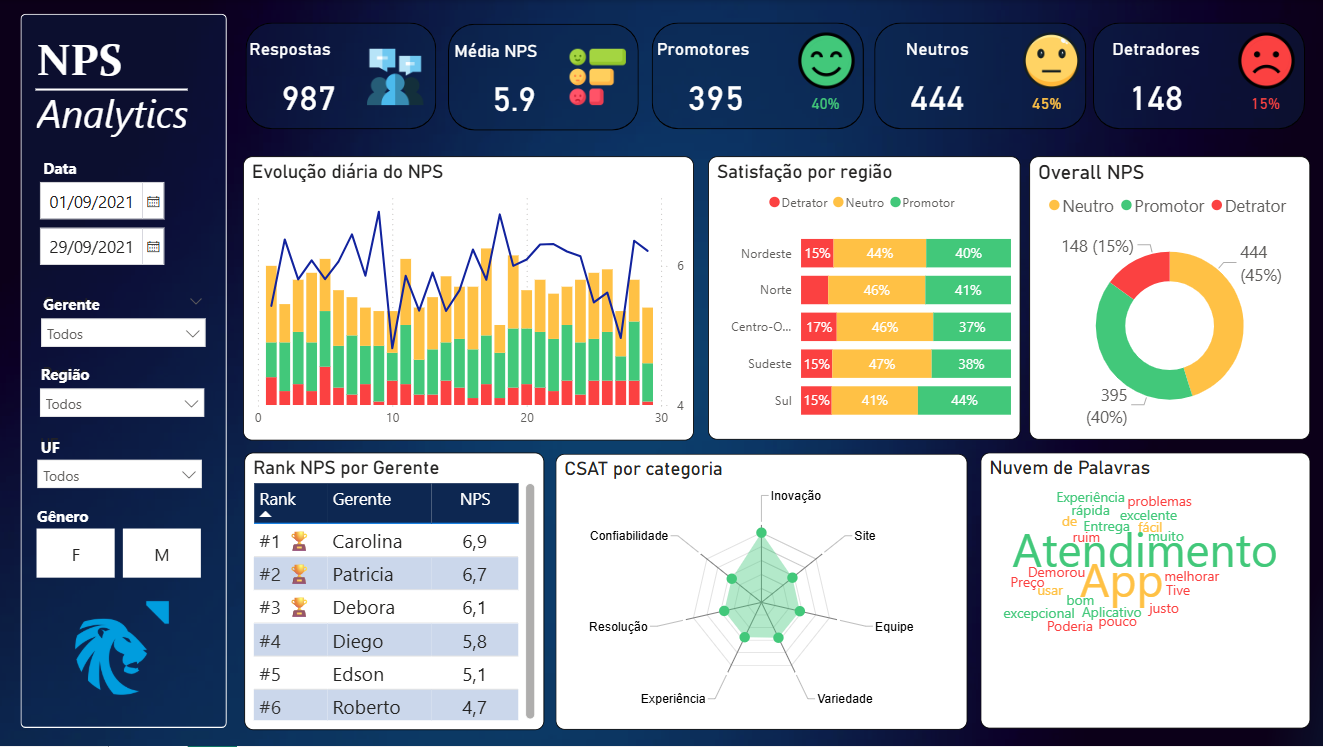

The page's visual inventory and layout, read from the dashboard file:
{"tool":"powerbi","page":{"name":"NPS","canvas":[1280,720],"ordinal":0},"visuals":[{"type":"shape","box":[1056.4,22.3,204.7,103],"z":0},{"type":"shape","box":[21.2,13.7,199.1,689.3],"z":1000},{"type":"image","box":[20.6,547.5,199,155.1],"z":2000},{"type":"WordCloud1447959067750","title":"Nuvem de Palavras","fields":{"Category":["NPS.Comentario"]},"box":[947.8,436.5,318.1,266.6],"z":3000},{"type":"donutChart","title":"Overall NPS","fields":{"Category":["NPS.Classificacao_NPS"],"Y":["MedidasNPS.Qtd. Respostas"]},"box":[995.3,150.8,271.4,273.9],"z":4000},{"type":"hundredPercentStackedBarChart","title":"Satisfação por região","fields":{"Category":["NPS.Regiao"],"Y":["MedidasNPS.Qtd. Respostas"],"Series":["NPS.Classificacao_NPS"]},"box":[685.3,150.8,301.6,273.9],"z":5000},{"type":"advancedSlicerVisual","fields":{"Values":["NPS.Genero"]},"box":[32.2,506.1,170,57.9],"z":6000},{"type":"textbox","box":[32.2,482.9,70.8,38.6],"z":7000},{"type":"RadarChart1446119667547","title":"CSAT por categoria","fields":{"Category":["Dim_Categoria1.Categoria"],"Y":["MedidasNPS.CSAT_Radar"]},"box":[538.3,437.8,397.9,266.6],"z":8000},{"type":"advanceCardE03760C5AB684758B56AA29F9E6C257B","title":"Detradores","fields":{"mainMeasure":["MedidasNPS.Qtd_Detratores"]},"box":[1055.9,37.6,124.4,97],"z":9000},{"type":"advanceCardE03760C5AB684758B56AA29F9E6C257B","fields":{"mainMeasure":["MedidasNPS.%_Detradores"]},"box":[1174.9,76.4,96.6,48.9],"z":10000},{"type":"image","box":[1173.6,31.3,100.4,54.1],"z":11000},{"type":"shape","box":[631.4,22.3,204.7,103],"z":12000},{"type":"advanceCardE03760C5AB684758B56AA29F9E6C257B","title":"Promotores","fields":{"mainMeasure":["MedidasNPS.Qtd_Promotores"]},"box":[631,37.6,124.4,97],"z":13000},{"type":"advanceCardE03760C5AB684758B56AA29F9E6C257B","fields":{"mainMeasure":["MedidasNPS.%_Promotores"]},"box":[749.9,76.4,96.6,48.9],"z":14000},{"type":"image","box":[748.6,31.3,100.4,54.1],"z":15000},{"type":"shape","box":[845.2,22.3,204.7,103],"z":16000},{"type":"advanceCardE03760C5AB684758B56AA29F9E6C257B","title":"Neutros","fields":{"mainMeasure":["MedidasNPS.Qtd_Neutros"]},"box":[844.7,37.6,124.4,97],"z":17000},{"type":"advanceCardE03760C5AB684758B56AA29F9E6C257B","fields":{"mainMeasure":["MedidasNPS.%_Neutros"]},"box":[963.7,76.4,96.6,48.9],"z":18000},{"type":"image","box":[966.5,31.6,100.4,54.1],"z":19000},{"type":"tableEx","title":"Rank NPS por Gerente","fields":{"Values":["MedidasNPS.Rank_Visual","NPS.Gerente","MedidasNPS.Média NPS"]},"box":[238.2,436.5,289.7,267.8],"z":20000},{"type":"lineStackedColumnComboChart","title":"Evolução diária do NPS","fields":{"Category":["NPS.Data_Resposta.Variation.Hierarquia de datas.Dia"],"Y2":["MedidasNPS.Média NPS"],"Y":["MedidasNPS.Qtd_Detratores","MedidasNPS.Qtd_Promotores","MedidasNPS.Qtd_Neutros"]},"box":[236.9,150.7,435.3,274.3],"z":21000},{"type":"shape","box":[238.5,21.9,184.1,103],"z":22000},{"type":"advanceCardE03760C5AB684758B56AA29F9E6C257B","title":"Respostas","fields":{"mainMeasure":["MedidasNPS.Qtd. Respostas"]},"box":[237.6,37.8,124.4,97],"z":23000},{"type":"image","box":[332.5,46.6,100.4,54.1],"z":24000},{"type":"shape","box":[434.6,22.6,184.1,103],"z":25000},{"type":"advanceCardE03760C5AB684758B56AA29F9E6C257B","title":"Média NPS","fields":{"mainMeasure":["MedidasNPS.Média NPS"]},"box":[435.5,38.9,124.9,96.6],"z":26000},{"type":"image","box":[528.6,47.3,100.4,54.1],"z":27000},{"type":"textbox","box":[32.2,27,188,135.2],"z":27001},{"type":"shape","box":[36.1,27,146.8,119.8],"z":27002},{"type":"slicer","title":"UF","fields":{"Values":["NPS.UF"]},"box":[28.3,414.6,179,68.2],"z":27003},{"type":"textbox","box":[36.1,415.9,70.8,38.6],"z":27004},{"type":"slicer","fields":{"Values":["NPS.Data_Resposta"]},"box":[28.3,164.8,179,97.9],"z":27005},{"type":"textbox","box":[38.6,146.8,70.8,38.6],"z":27006},{"type":"slicer","title":"UF","fields":{"Values":["NPS.Regiao"]},"box":[29.6,346.4,179,68.2],"z":27007},{"type":"textbox","box":[36.1,346.4,70.8,38.6],"z":27008},{"type":"slicer","title":"UF","fields":{"Values":["NPS.Gerente"]},"box":[30.9,278.1,179,68.2],"z":27009},{"type":"textbox","box":[38.6,278.1,70.8,38.6],"z":27010}]}

Visuals, with their boxes in screenshot pixels (x1, y1, x2, y2), scaled from the page's 1280x720 canvas onto the 1323x747 screenshot:
shape: 1092, 23, 1303, 130
shape: 22, 14, 228, 729
image: 21, 568, 227, 729
"Nuvem de Palavras" WordCloud1447959067750: 980, 453, 1308, 729
"Overall NPS" donutChart: 1029, 156, 1309, 441
"Satisfação por região" hundredPercentStackedBarChart: 708, 156, 1020, 441
advancedSlicerVisual - NPS.Genero: 33, 525, 209, 585
textbox: 33, 501, 106, 541
"CSAT por categoria" RadarChart1446119667547: 556, 454, 968, 731
"Detradores" advanceCardE03760C5AB684758B56AA29F9E6C257B: 1091, 39, 1220, 140
advanceCardE03760C5AB684758B56AA29F9E6C257B - MedidasNPS.%_Detradores: 1214, 79, 1314, 130
image: 1213, 32, 1317, 89
shape: 653, 23, 864, 130
"Promotores" advanceCardE03760C5AB684758B56AA29F9E6C257B: 652, 39, 781, 140
advanceCardE03760C5AB684758B56AA29F9E6C257B - MedidasNPS.%_Promotores: 775, 79, 875, 130
image: 774, 32, 878, 89
shape: 874, 23, 1085, 130
"Neutros" advanceCardE03760C5AB684758B56AA29F9E6C257B: 873, 39, 1002, 140
advanceCardE03760C5AB684758B56AA29F9E6C257B - MedidasNPS.%_Neutros: 996, 79, 1096, 130
image: 999, 33, 1103, 89
"Rank NPS por Gerente" tableEx: 246, 453, 546, 731
"Evolução diária do NPS" lineStackedColumnComboChart: 245, 156, 695, 441
shape: 247, 23, 437, 130
"Respostas" advanceCardE03760C5AB684758B56AA29F9E6C257B: 246, 39, 374, 140
image: 344, 48, 447, 104
shape: 449, 23, 639, 130
"Média NPS" advanceCardE03760C5AB684758B56AA29F9E6C257B: 450, 40, 579, 141
image: 546, 49, 650, 105
textbox: 33, 28, 228, 168
shape: 37, 28, 189, 152
"UF" slicer: 29, 430, 214, 501
textbox: 37, 431, 110, 472
slicer - NPS.Data_Resposta: 29, 171, 214, 273
textbox: 40, 152, 113, 192
"UF" slicer: 31, 359, 216, 430
textbox: 37, 359, 110, 399
"UF" slicer: 32, 289, 217, 359
textbox: 40, 289, 113, 329
